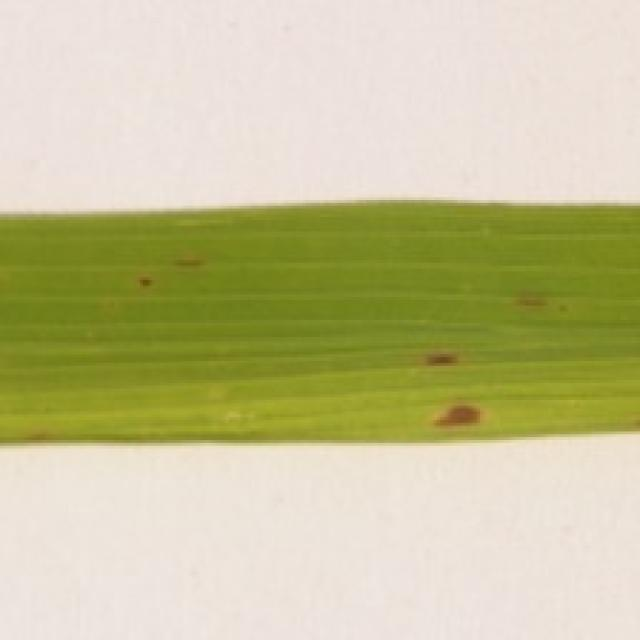Rice___Brown_Spot: (0, 201, 637, 444)
